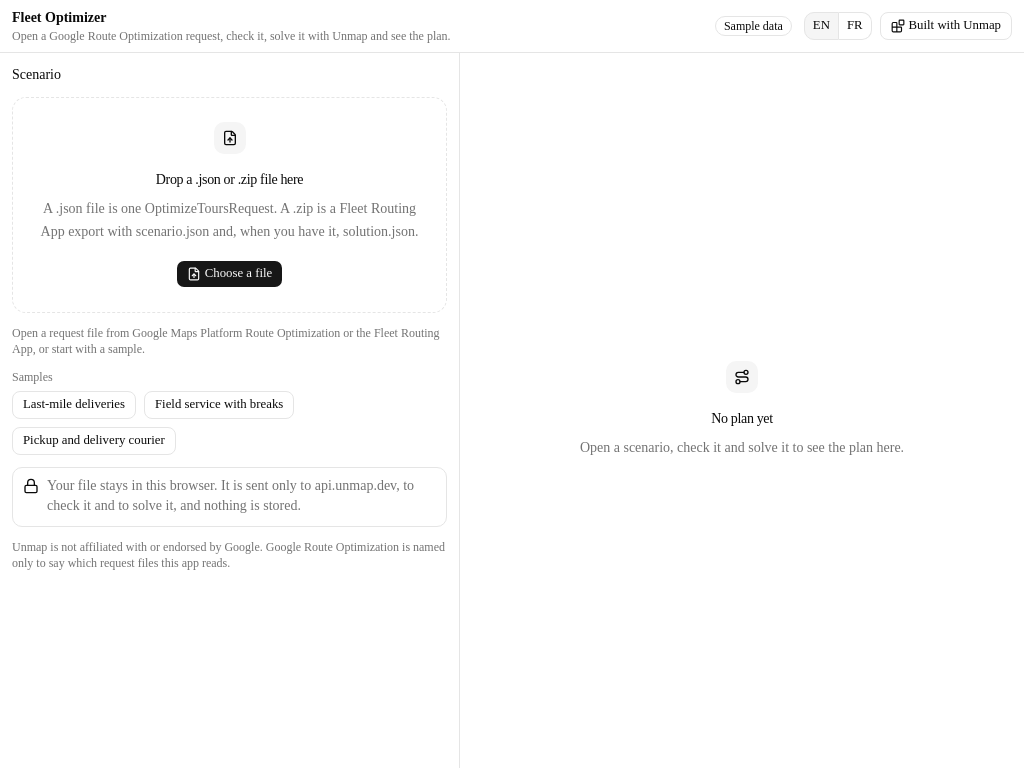
it: Fleet Optimizer panels (en) › a blocked report disables solve
The width and height of the screenshot is (1024, 768).
Expected: the heading "Scenario" is shown, [12,67,61,82]
Click the button "Last-mile deliveries". click: point(74, 404)
box: [12,390,136,418]
(page scrolled)
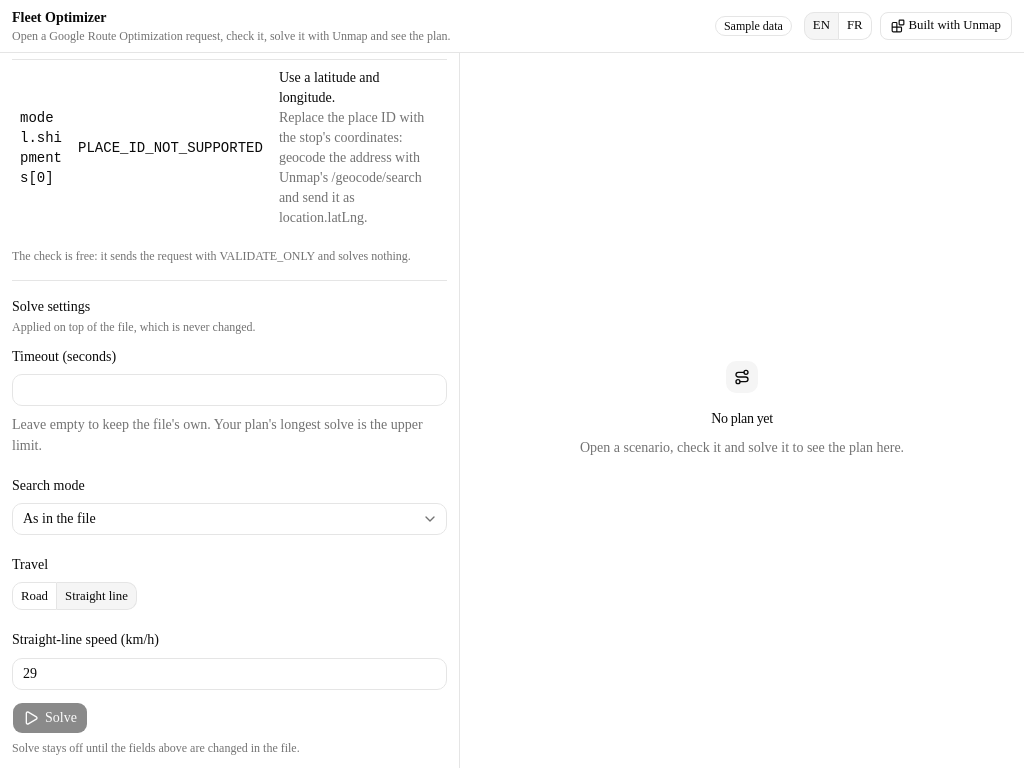
Expected: the table shows "PLACE_ID_NOT_SUPPORTED", [78,140,263,156]
Expected: the text "Replace the place ID with the stop's coordinates: geocode the address with Unmap's /geocode/search and send it as location.latLng." is shown, [279,110,424,224]
Expected: the button "Solve" is disabled, [12,702,88,734]
